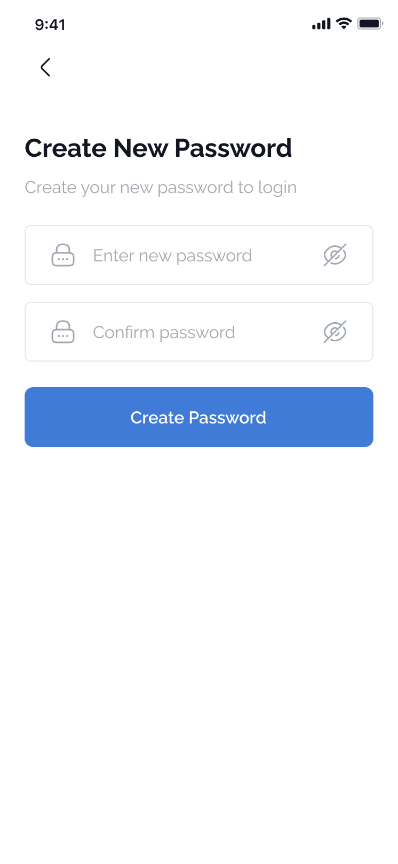Input: (21, 297, 377, 365), (21, 221, 376, 289)
